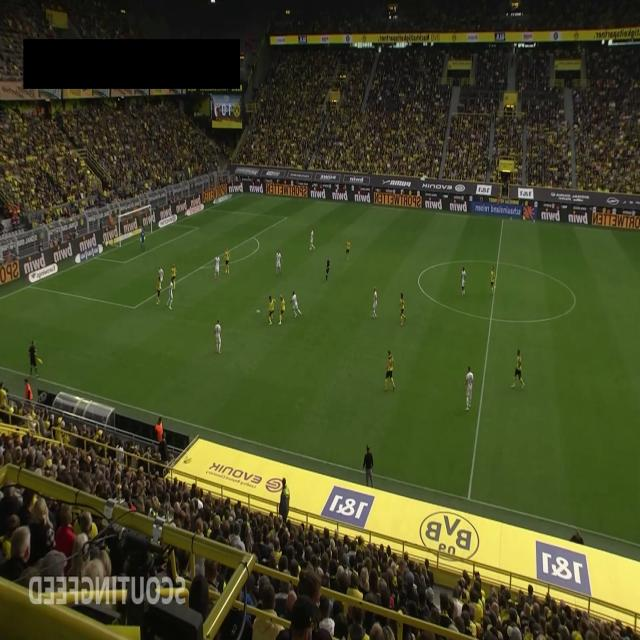ball: (256, 307, 261, 316)
goalkeeper: (139, 226, 146, 253)
player: (511, 348, 525, 389), (384, 350, 396, 392), (464, 366, 474, 411), (290, 290, 302, 318), (214, 319, 222, 354), (268, 294, 276, 326), (166, 279, 174, 310), (278, 294, 286, 325), (399, 292, 406, 326), (155, 276, 163, 305), (170, 262, 177, 291), (158, 265, 165, 293), (372, 288, 378, 320), (460, 266, 466, 296), (490, 265, 496, 294), (214, 254, 220, 282), (224, 247, 230, 274), (276, 250, 282, 276), (345, 237, 351, 262), (309, 229, 315, 250)
referee: (28, 340, 42, 377), (519, 201, 526, 222), (325, 258, 330, 281)
